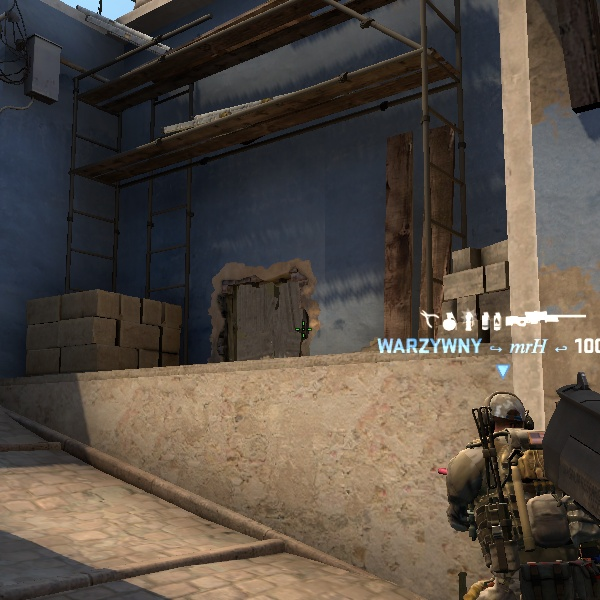ct_body: (415, 381, 597, 600)
ct_head: (463, 386, 545, 467)
